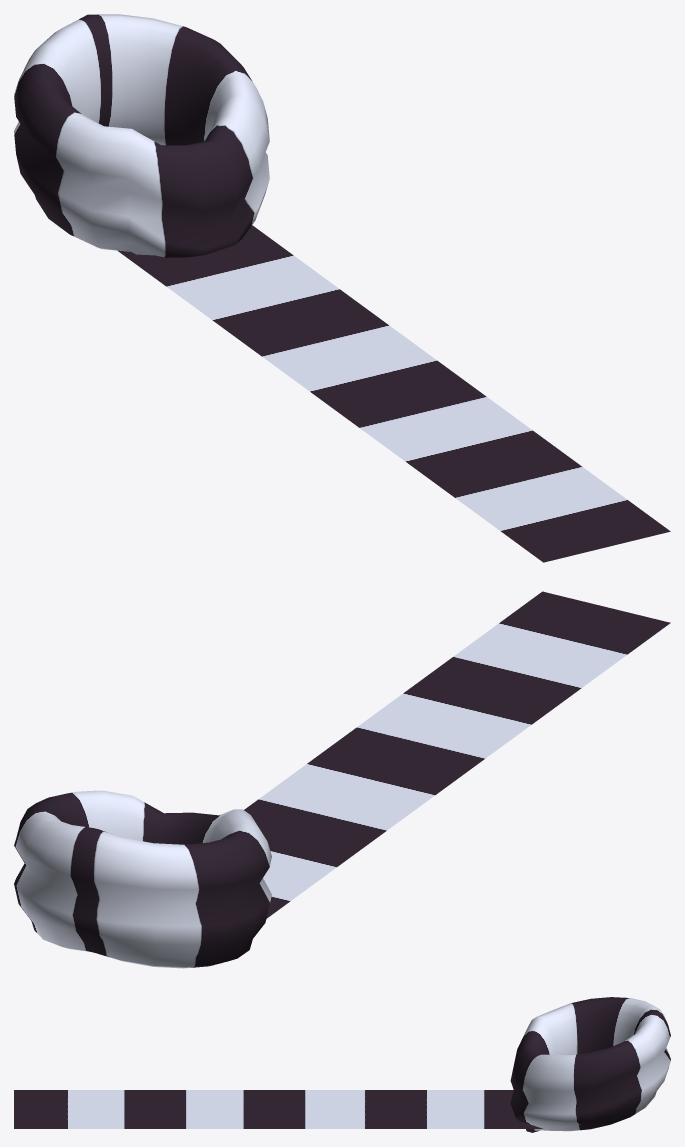
File: scarf.fbx
3 renders of one model, top to bottom at view 1: azimuth 30°, elevation 25°; view 2: azimuth 150°, elevation 25°; view 3: azimuth 270°, elevation 25°, orthographic. The views are drawn at different scales.
Parts seen in each view (by area): view 1: pPlane14, polySurface16; view 2: pPlane14, polySurface16; view 3: pPlane14, polySurface16.
Boxes of the visible parts, left/top/right/bottom form: pPlane14: left=117, top=225, right=670, bottom=562; polySurface16: left=14, top=14, right=269, bottom=257; pPlane14: left=244, top=591, right=670, bottom=918; polySurface16: left=14, top=790, right=271, bottom=968; pPlane14: left=14, top=1090, right=542, bottom=1128; polySurface16: left=510, top=997, right=670, bottom=1132.
Bounding box in the file's own units: 1.52 × 1.19 × 6.24.
